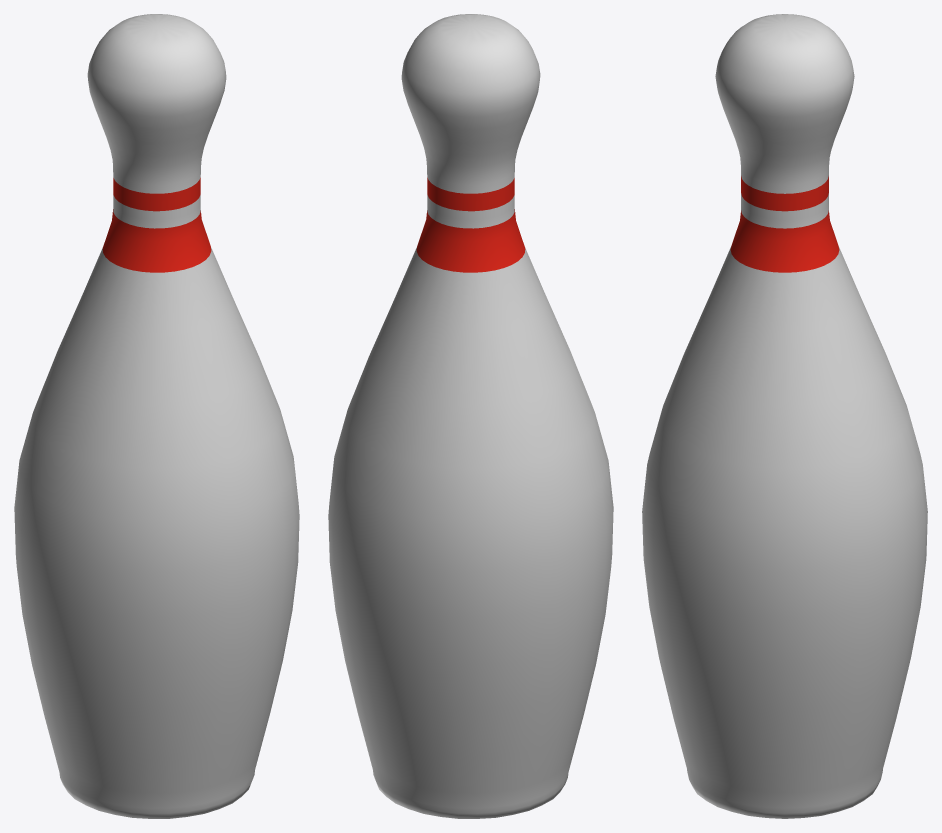
The model's file is bowling_pin.fbx.
3 views of the same model, side by side, from view 1: azimuth 30°, elevation 25°; view 2: azimuth 150°, elevation 25°; view 3: azimuth 270°, elevation 25° (orthographic).
Parts seen in each view (by area): view 1: Cylinder; view 2: Cylinder; view 3: Cylinder.
Part boxes in pixels (x1,y1,x2,y2): Cylinder: (14, 14, 299, 818); Cylinder: (328, 14, 613, 818); Cylinder: (642, 14, 927, 818).
Size of the model in its own units: 2.85 by 8.41 by 2.85.
